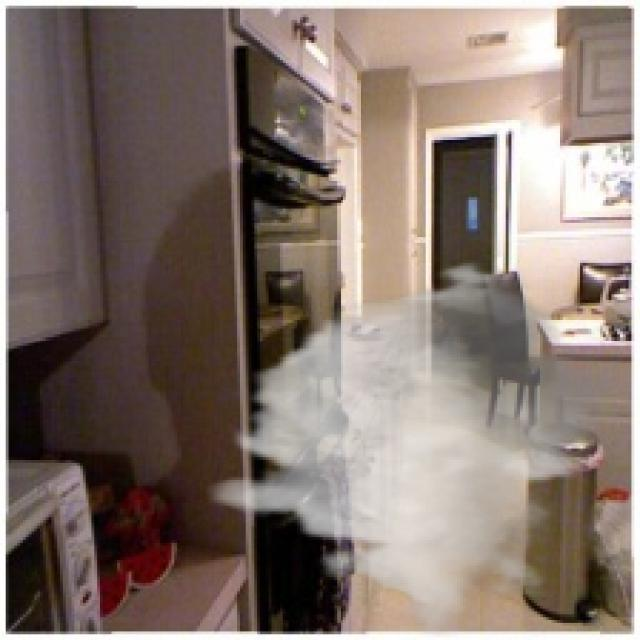smoke: (203, 260, 623, 637)
